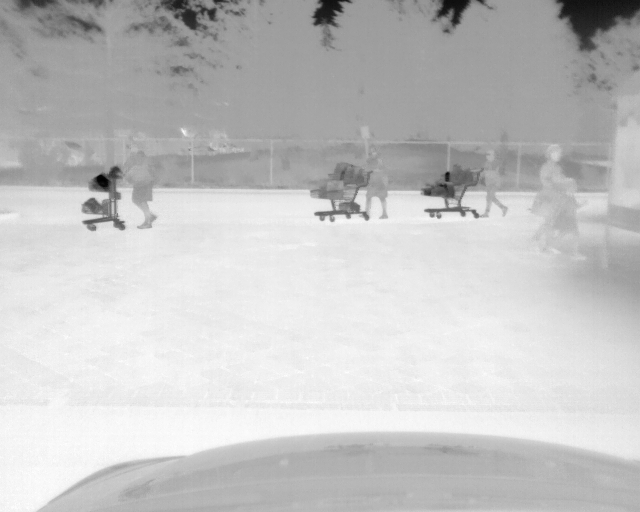people: (526, 143, 567, 253), (119, 138, 159, 230), (553, 174, 588, 264), (476, 148, 510, 218), (361, 147, 389, 221)
